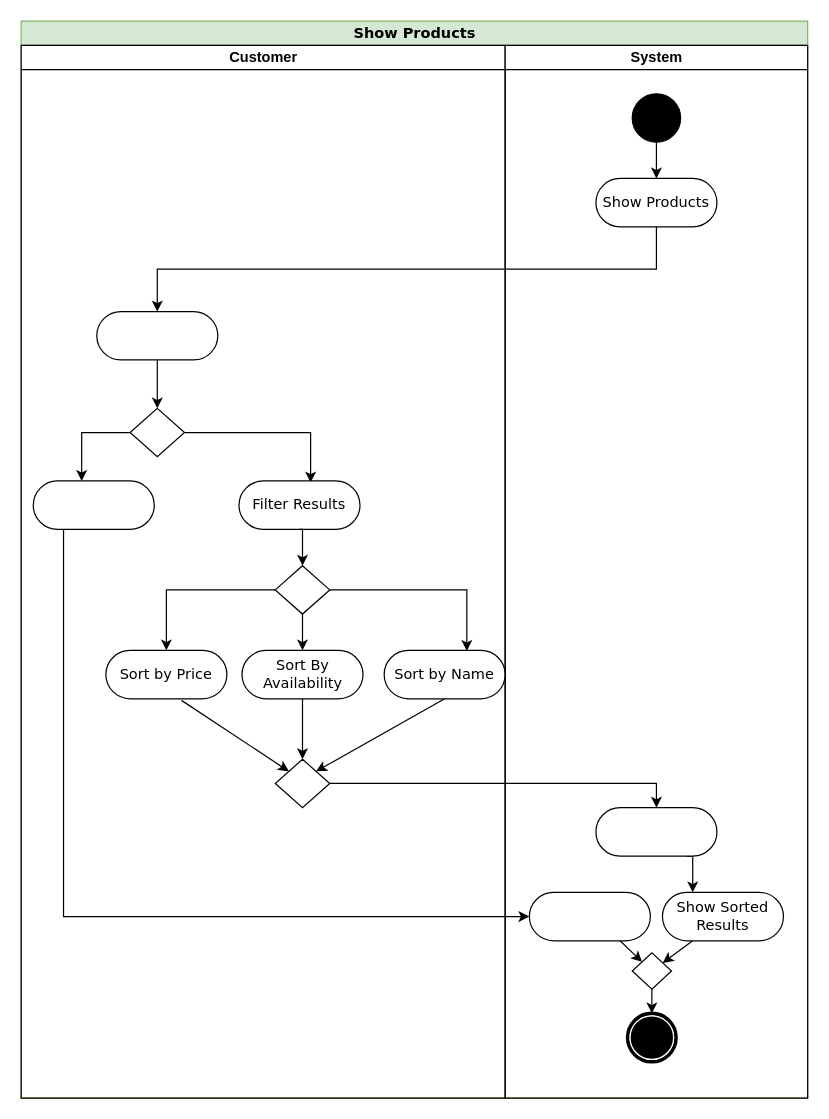
This 829x1119 diagram has some shape labels left out. Each missing label, with the centre of its shape:
"Check Reviews" goes at (93,504).
"Show Reviews" goes at (589,916).
"Sort Results" goes at (656,831).
"View Search Results" goes at (157,335).
